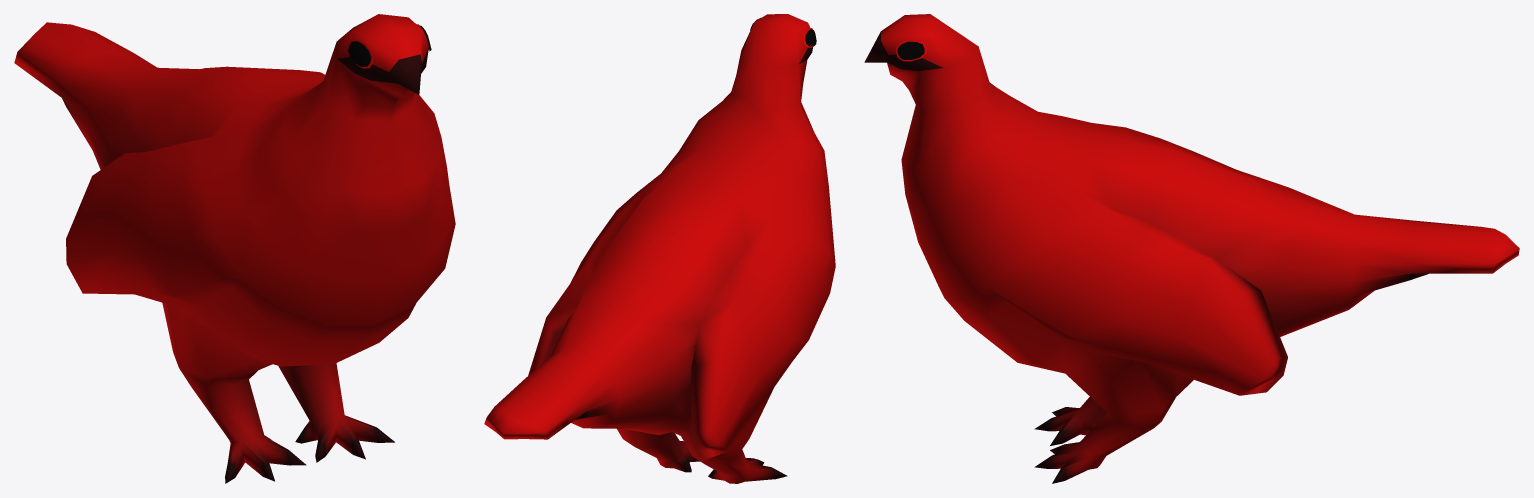
Rendered from BirdsUpright_Ptarmigan.fbx.
3 renders of one model, left to right at view 1: azimuth 30°, elevation 25°; view 2: azimuth 150°, elevation 25°; view 3: azimuth 270°, elevation 25°, orthographic. The views are drawn at different scales.
Parts seen in each view (by area): view 1: base; view 2: base; view 3: base.
Boxes of the visible parts, bbox=[...] form: base: bbox=[14, 14, 455, 483]; base: bbox=[484, 14, 835, 483]; base: bbox=[864, 14, 1519, 483].
Size of the model in its own units: 24.68 by 44.22 by 61.12.
